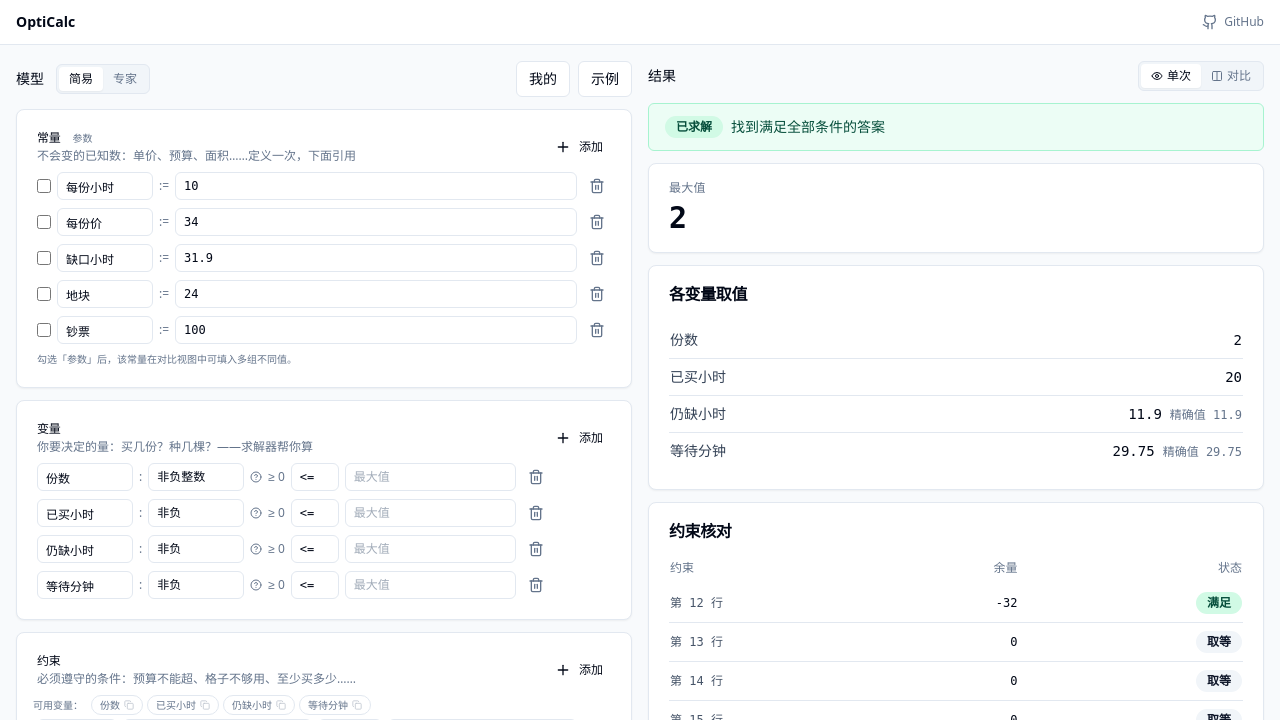
Scenario: App 渲染验收 › 语法速查默认展开
The width and height of the screenshot is (1280, 720).
Click the radio button labelled "专家": {"x": 125, "y": 79} [103,67,147,91]
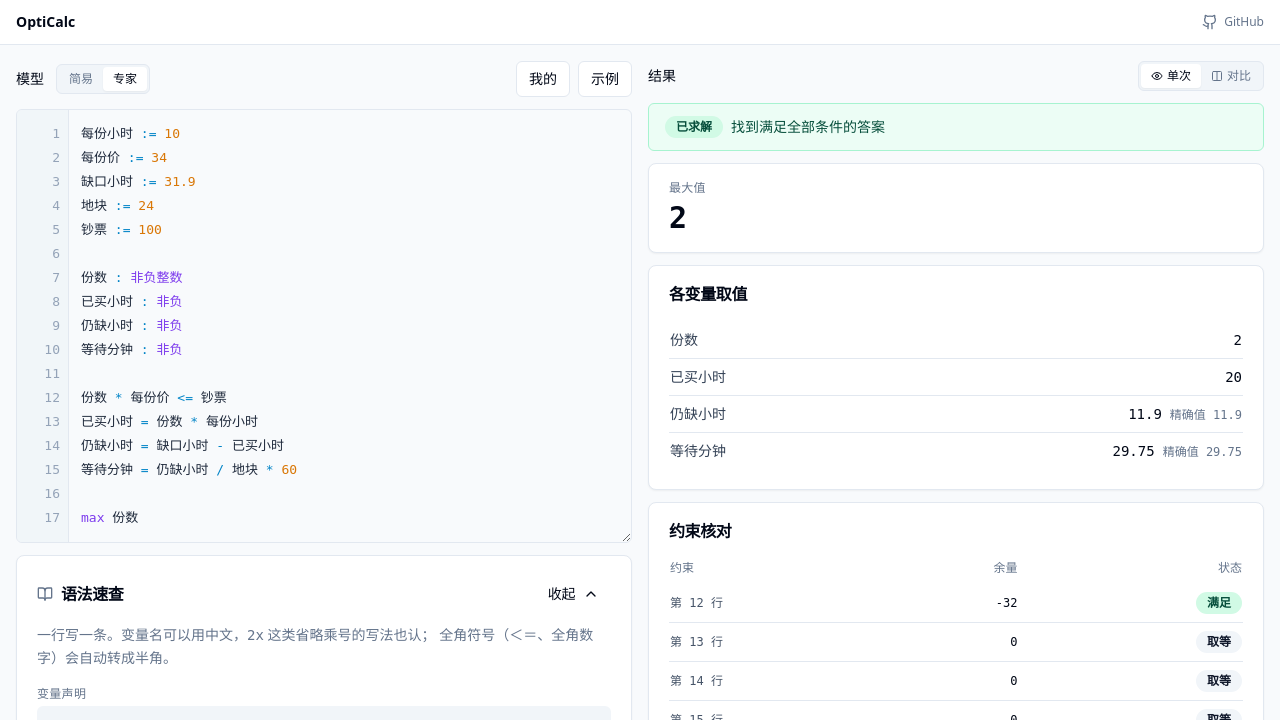
Check: the text "语法速查" is shown, box [37,586,123,602]
Check: the text "变量声明" is shown, box [37,684,86,702]
